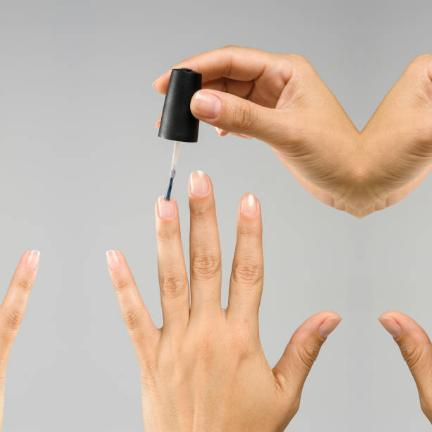Nail: (191, 91, 220, 119), (188, 170, 208, 197), (318, 317, 341, 338), (378, 317, 401, 338), (240, 192, 257, 217), (156, 197, 174, 220), (105, 250, 119, 272), (25, 250, 39, 272)
